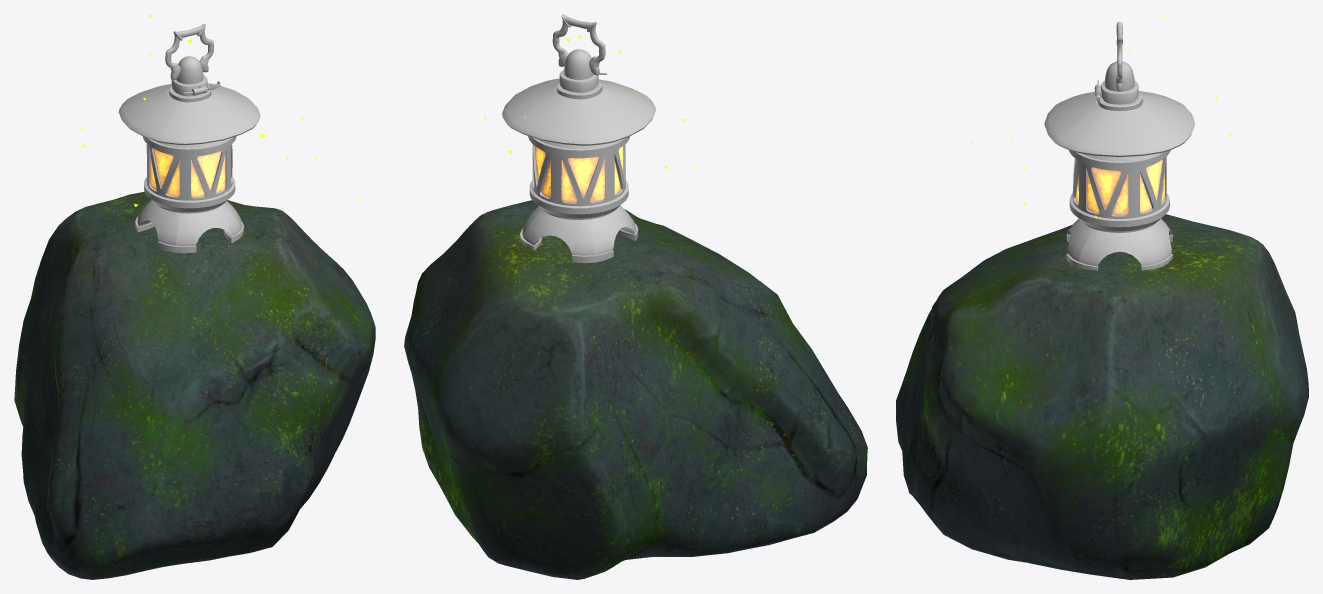
File: lamp.gltf
3 renders of one model, left to right at view 1: azimuth 30°, elevation 25°; view 2: azimuth 150°, elevation 25°; view 3: azimuth 270°, elevation 25°, orthographic. The views are drawn at different scales.
Visible parts, largest first — view 1: Rock_1, Lampa_0; view 2: Rock_1, Lampa_0; view 3: Rock_1, Lampa_0.
Boxes of the visible parts, box(x1,y1,x2,y2) form: Rock_1: box(14, 192, 375, 579); Lampa_0: box(118, 24, 260, 253); Rock_1: box(404, 200, 867, 579); Lampa_0: box(502, 14, 655, 263); Rock_1: box(896, 214, 1308, 579); Lampa_0: box(1044, 21, 1194, 270).
Bounding box in the file's own units: 9.24 × 11.79 × 8.58.
